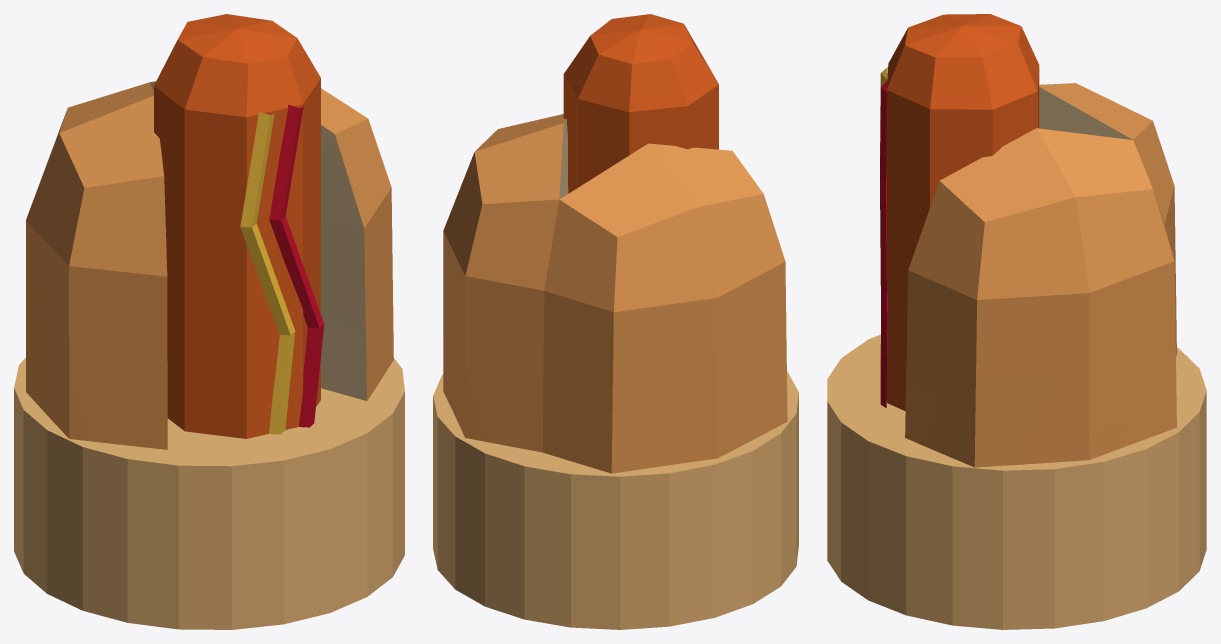
File: kapa hot daug.fbx
The picture shows the model from 3 angles, left to right: view 1: azimuth 30°, elevation 25°; view 2: azimuth 150°, elevation 25°; view 3: azimuth 270°, elevation 25°; orthographic projection. The views are drawn at different scales.
Visible parts, largest first — view 1: Cylinder.002, Hotdog_A, Hotdog_A.002, Hotdog_A.003, Hotdog_A.004; view 2: Hotdog_A, Cylinder.002, Hotdog_A.002; view 3: Hotdog_A, Cylinder.002, Hotdog_A.002, Hotdog_A.004.
Boxes of the visible parts, box(x1,y1,x2,y2) form: Cylinder.002: box(14, 358, 404, 629); Hotdog_A: box(26, 81, 393, 449); Hotdog_A.002: box(154, 14, 320, 438); Hotdog_A.003: box(240, 112, 295, 434); Hotdog_A.004: box(269, 104, 324, 427); Hotdog_A: box(443, 114, 787, 473); Cylinder.002: box(433, 371, 798, 629); Hotdog_A.002: box(563, 14, 718, 193); Hotdog_A: box(905, 83, 1176, 467); Cylinder.002: box(827, 334, 1206, 629); Hotdog_A.002: box(887, 14, 1039, 410); Hotdog_A.004: box(880, 81, 887, 407).
Size of the model in its own units: 140 by 213 by 140.
2 materials, 1 textured.
